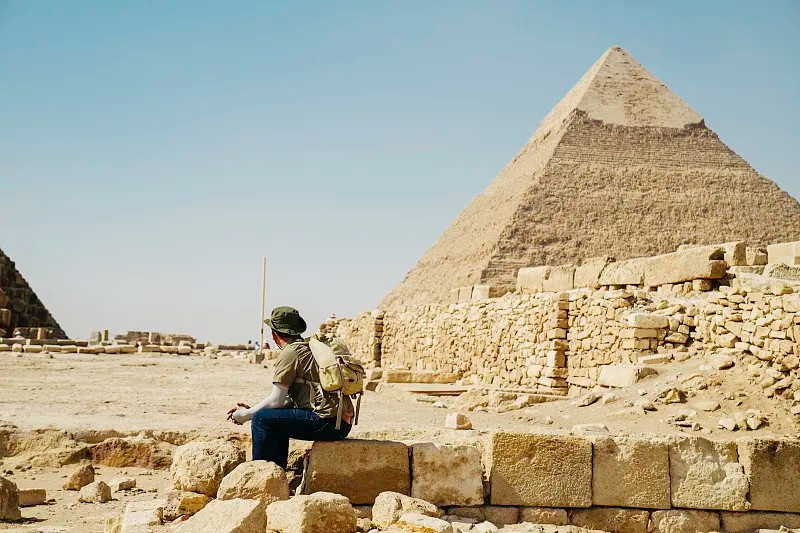Pyramid: (378, 43, 800, 312)
